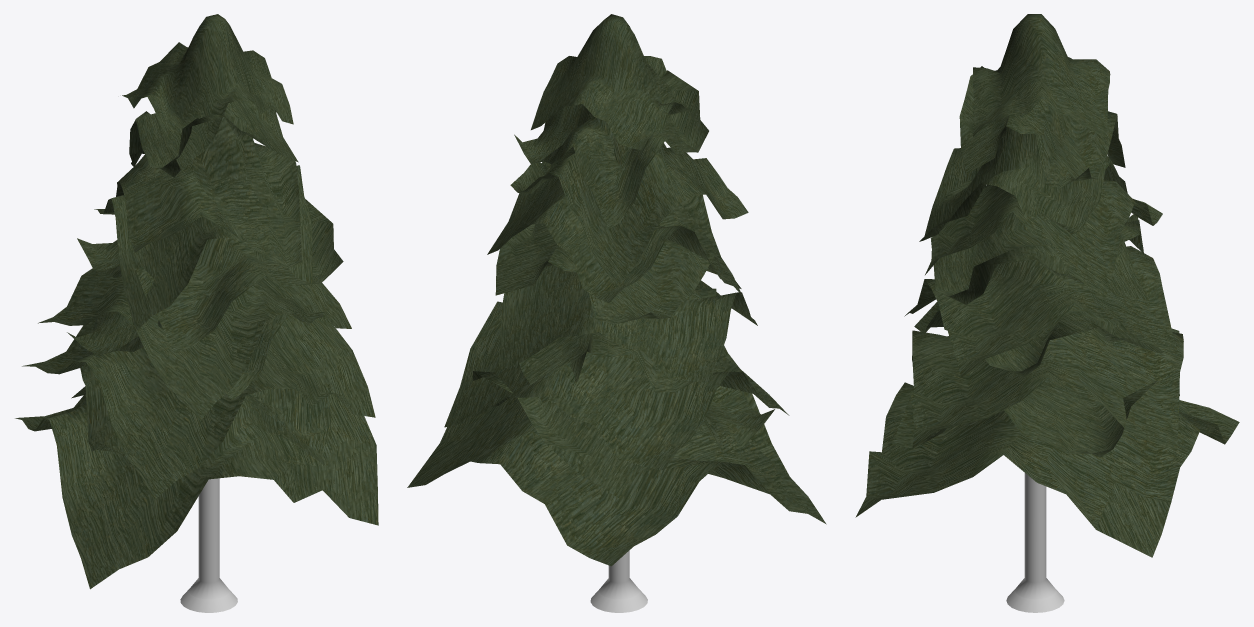
Rendered from lowScaledPineTree.fbx.
3 renders of one model, left to right at view 1: azimuth 30°, elevation 25°; view 2: azimuth 150°, elevation 25°; view 3: azimuth 270°, elevation 25°, orthographic.
Visible parts, largest first — view 1: TreePine_Shrunk; view 2: TreePine_Shrunk; view 3: TreePine_Shrunk.
Boxes of the visible parts, box(x1,y1,x2,y2) form: TreePine_Shrunk: box(15, 14, 378, 612); TreePine_Shrunk: box(407, 14, 826, 612); TreePine_Shrunk: box(855, 14, 1239, 612).
Size of the model in its own units: 0.2139 by 0.3739 by 0.222.
